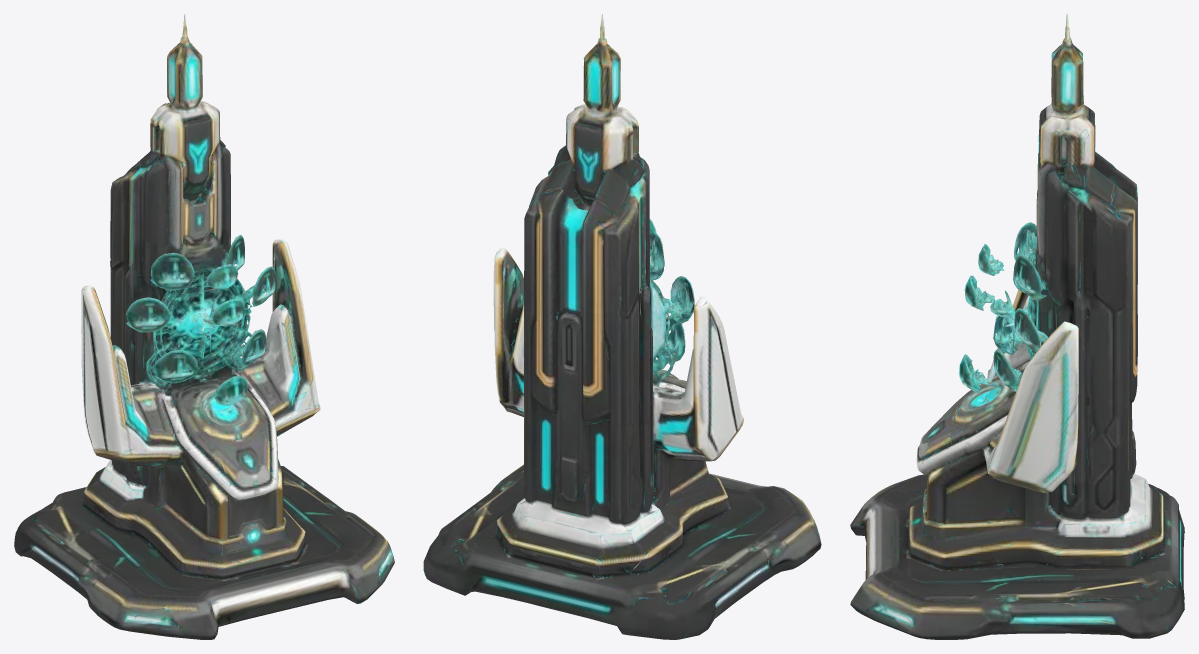
Rendered from eoncity_transit_hub_beacon_terminal.547f5d734761.glb.
3 renders of one model, left to right at view 1: azimuth 30°, elevation 25°; view 2: azimuth 150°, elevation 25°; view 3: azimuth 270°, elevation 25°, orthographic. The views are drawn at different scales.
Parts seen in each view (by area): view 1: Mesh1.0; view 2: Mesh1.0; view 3: Mesh1.0.
Boxes of the visible parts, left/top/right/bottom form: Mesh1.0: left=14, top=14, right=394, bottom=639; Mesh1.0: left=423, top=14, right=821, bottom=639; Mesh1.0: left=850, top=14, right=1184, bottom=639.
Size of the model in its own units: 1.04 by 1.9 by 1.03.
1 material, 1 textured.
